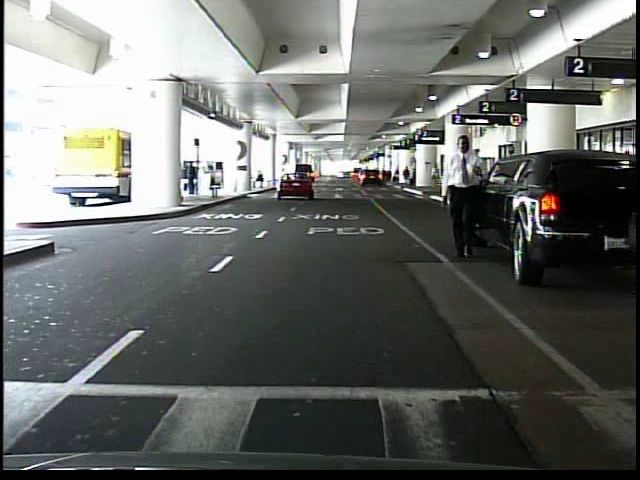person: (440, 133, 485, 259), (186, 159, 200, 196), (429, 164, 442, 191), (403, 166, 412, 188)
